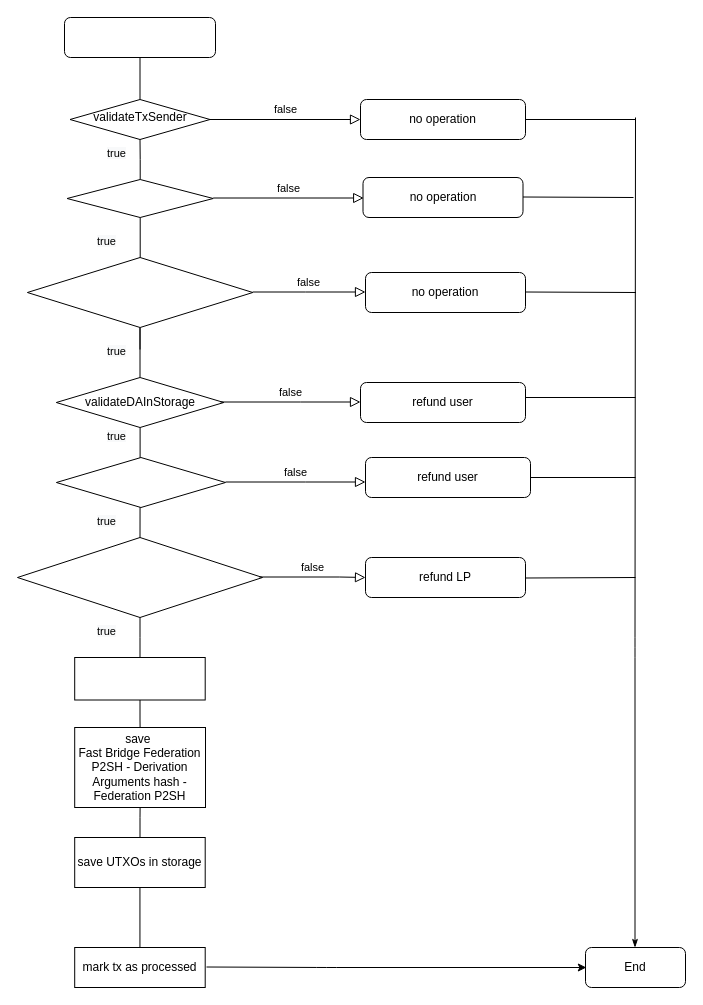
The diagram is 703 pixels wide and 1005 high, and some of its shapes have lost their labels. The shapes that lost their labels are listed below. From the top down, each one's centre as x and y in pixels, then its label:
At [140,37]: "registerBtcTransfer".
At [139,198]: "validateTransaction".
At [139,292]: "validateOneUseFederationAddress".
At [140,482]: "shouldTransferToContract".
At [139,577]: "verifyLockDoesNotSurpassLockingCap".
At [139,678]: "transfer to contract".
